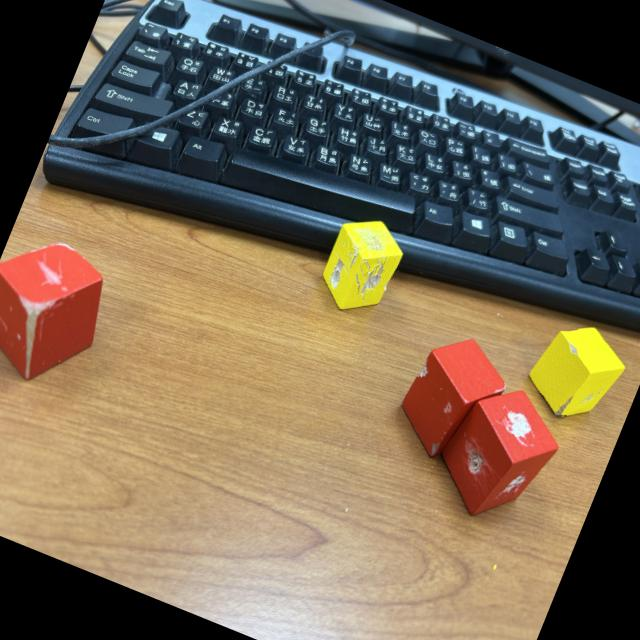broken: (422, 370, 574, 538), (0, 222, 124, 399), (386, 322, 518, 474), (516, 310, 635, 434), (310, 208, 412, 326)
